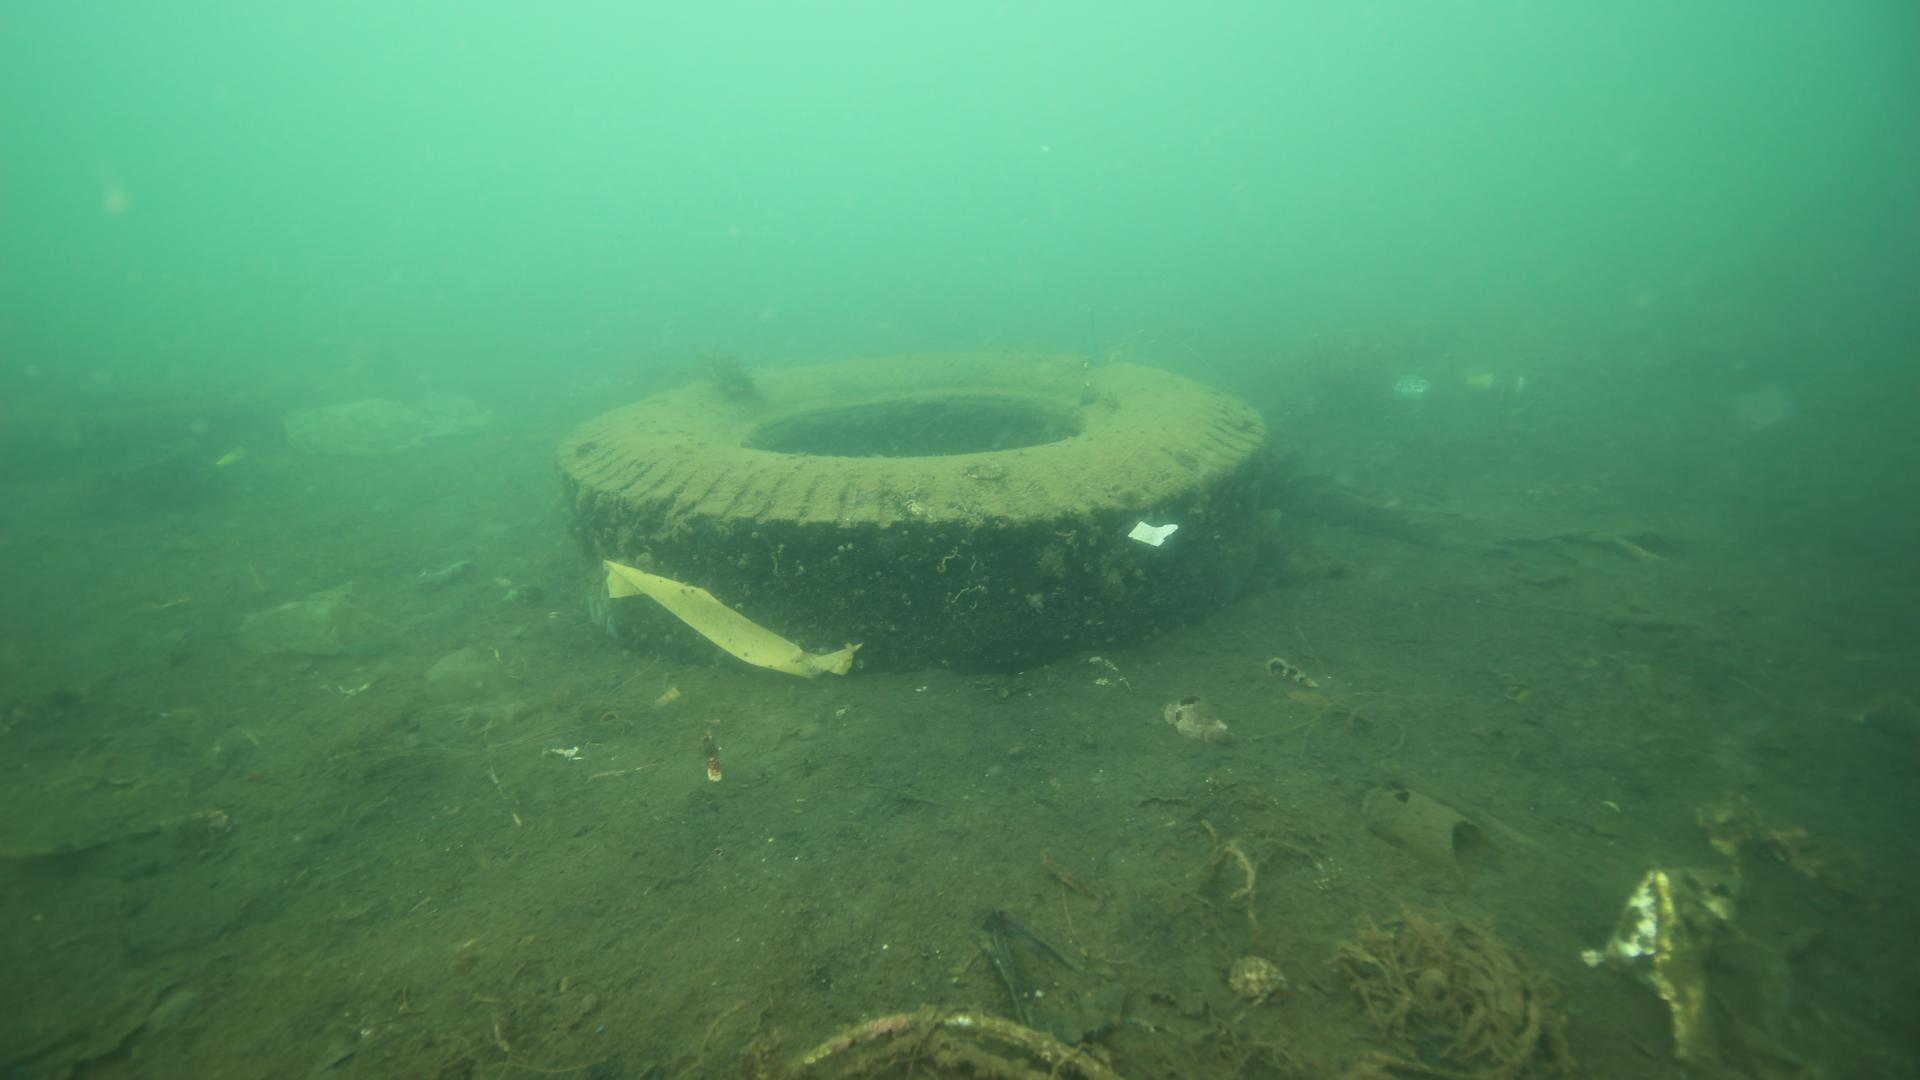tire: (551, 335, 1269, 676)
